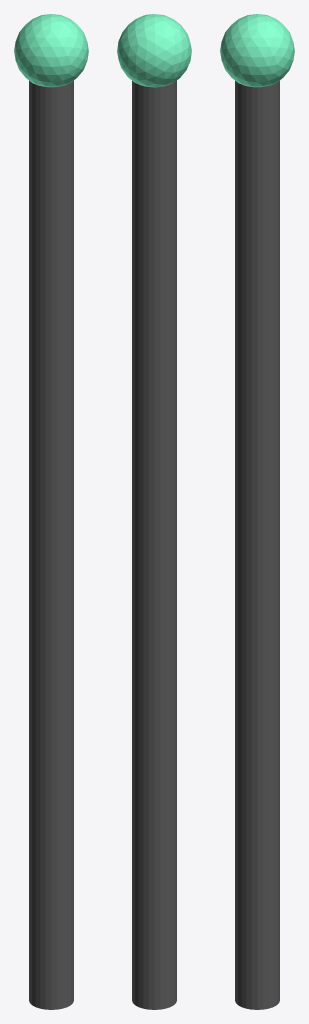
File: accessory-lora.glb
3 renders of one model, left to right at view 1: azimuth 90°, elevation 25°; view 2: azimuth 150°, elevation 25°; view 3: azimuth 270°, elevation 25°, orthographic.
Parts seen in each view (by area): view 1: geometry_0, geometry_1; view 2: geometry_0, geometry_1; view 3: geometry_0, geometry_1.
Part boxes in pixels (left/top/right/bottom): geometry_0: left=29, top=80, right=73, bottom=1009; geometry_1: left=14, top=14, right=88, bottom=87; geometry_0: left=132, top=80, right=176, bottom=1009; geometry_1: left=117, top=14, right=191, bottom=87; geometry_0: left=235, top=80, right=279, bottom=1009; geometry_1: left=220, top=14, right=294, bottom=87.
Size of the model in its own units: 0.01 by 0.145 by 0.01.
